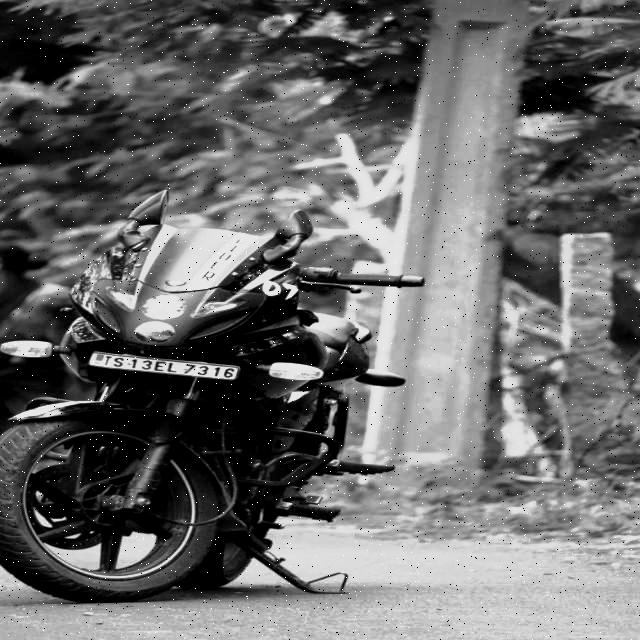Bike: (12, 196, 432, 628)
